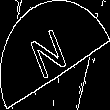N_SE: (32, 23, 78, 87)
